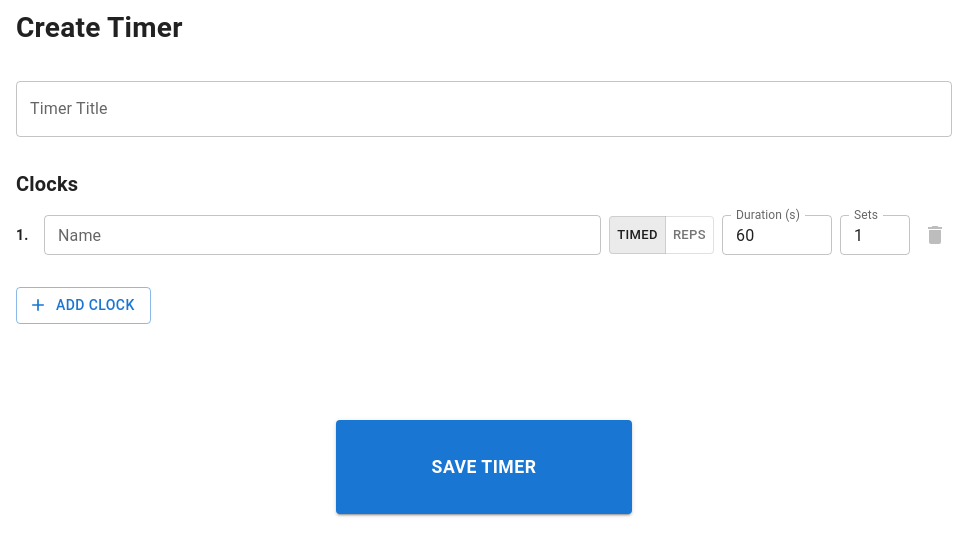
Test: CreateTimer › displays fallback error when API error is not an Error instance
Type "My Routine" into the field labelled "Timer Title" at (484, 109), box top-left (16, 81), bottom-right (952, 137)
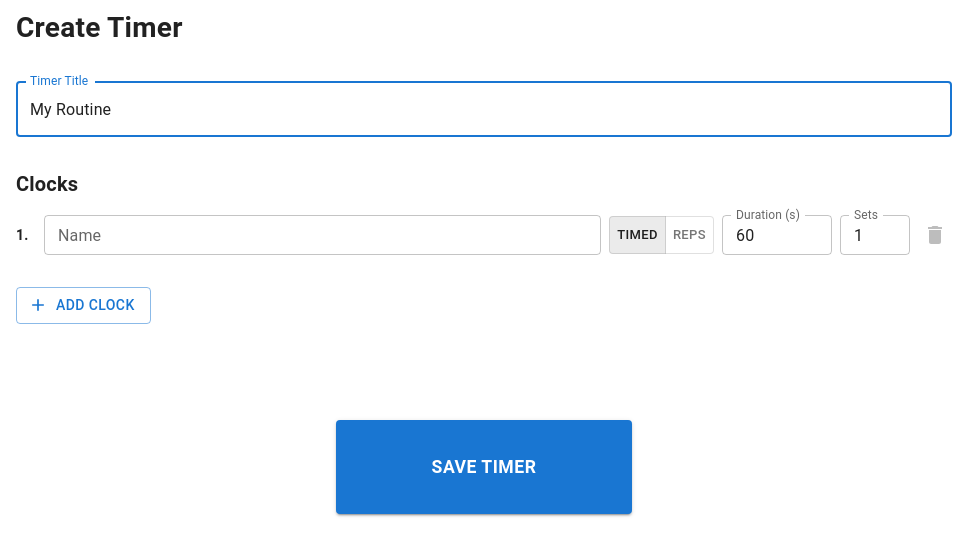
Type "Stretch A" into the field labelled "Name" at (323, 235), box top-left (44, 215), bottom-right (601, 255)
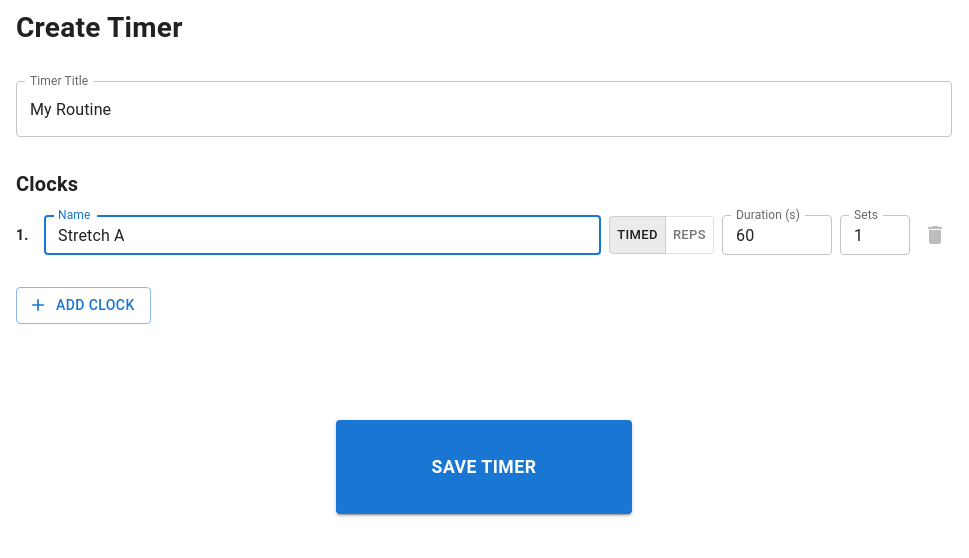
Click the button "Save Timer" at (484, 467), box top-left (336, 420), bottom-right (632, 514)
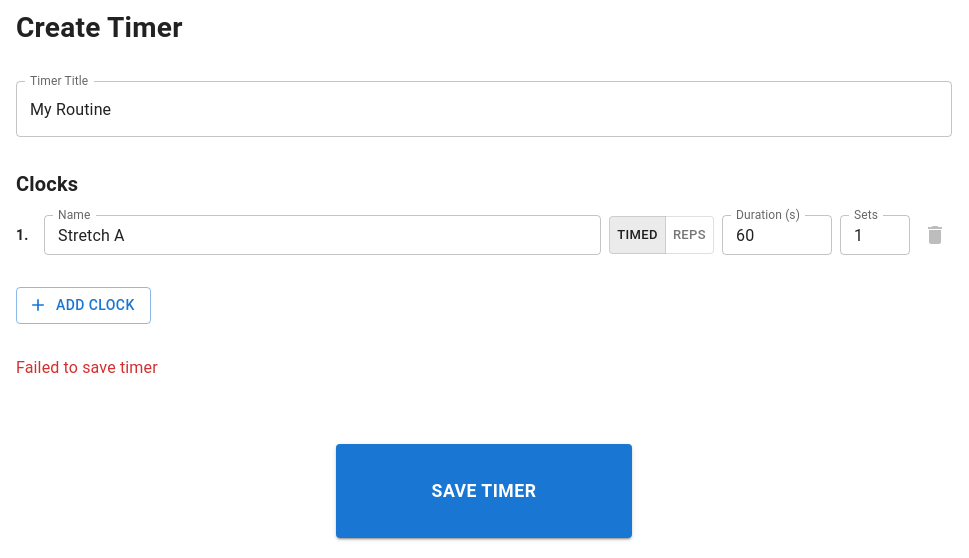
Result: the text "Failed to save timer" is shown at top-left (16, 358), bottom-right (158, 376)
